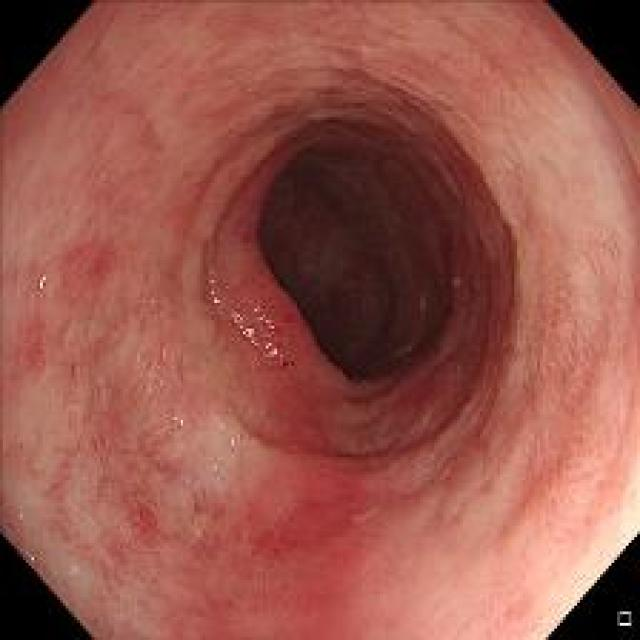contrast: (255, 126, 465, 380)
specularity: (230, 304, 284, 362), (200, 264, 228, 316), (148, 346, 171, 395), (31, 266, 51, 294), (25, 539, 42, 571), (164, 409, 190, 429), (229, 435, 240, 448), (216, 419, 225, 431)
